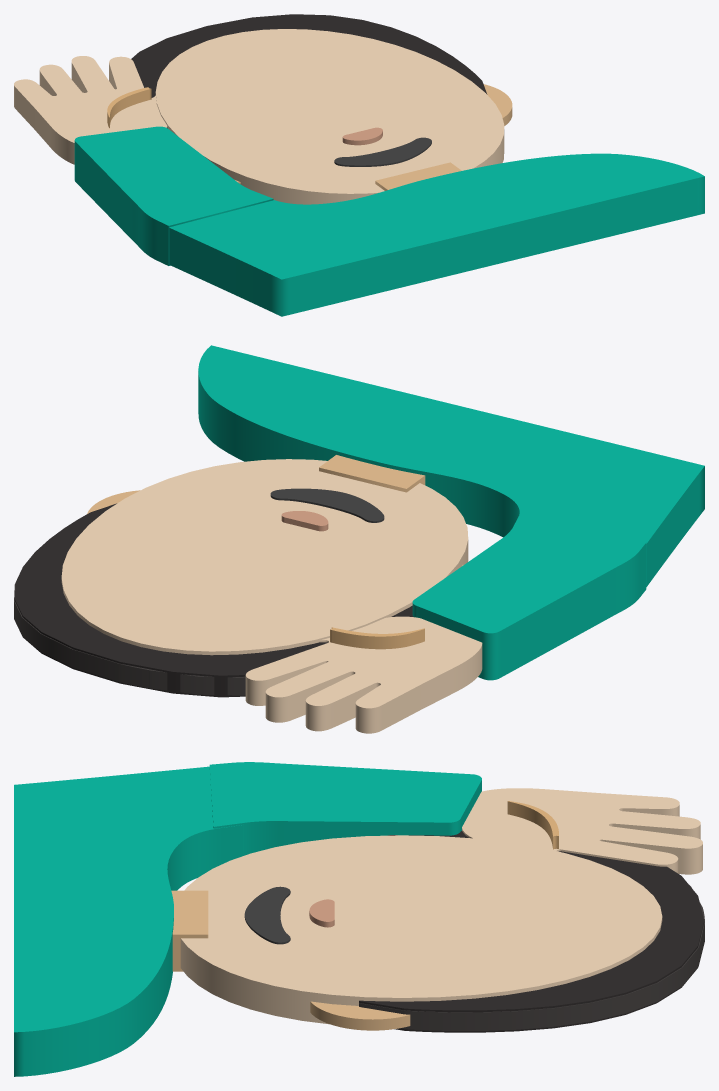
The model's file is emoji_u1f64b_1f3fb_200d_2642.glb.
3 renders of one model, top to bottom at view 1: azimuth 30°, elevation 25°; view 2: azimuth 150°, elevation 25°; view 3: azimuth 270°, elevation 25°, orthographic. The views are drawn at different scales.
Visible parts, largest first — view 1: emoji_u1f64b_1f3fb_200d_2642; view 2: emoji_u1f64b_1f3fb_200d_2642; view 3: emoji_u1f64b_1f3fb_200d_2642.
Boxes of the visible parts, x1=… form: emoji_u1f64b_1f3fb_200d_2642: x1=14, y1=14, x2=704, y2=316; emoji_u1f64b_1f3fb_200d_2642: x1=14, y1=345, x2=704, y2=733; emoji_u1f64b_1f3fb_200d_2642: x1=14, y1=762, x2=704, y2=1076.
Size of the model in its own units: 0.031 by 0.0028 by 0.0337.
